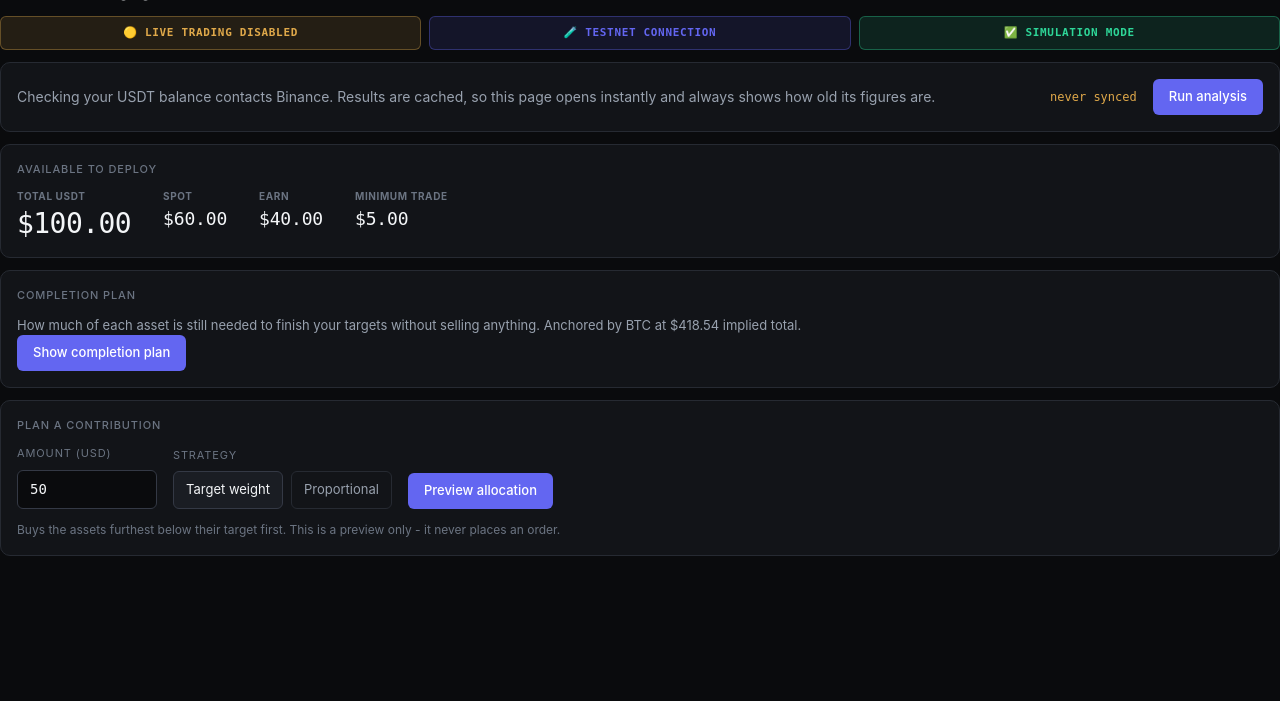
it: Dca per-trade selection › disables execution and hints when nothing is selected
Click the button "Preview allocation" at (480, 491), box x1=408 y1=473 x2=553 y2=508
(page scrolled)
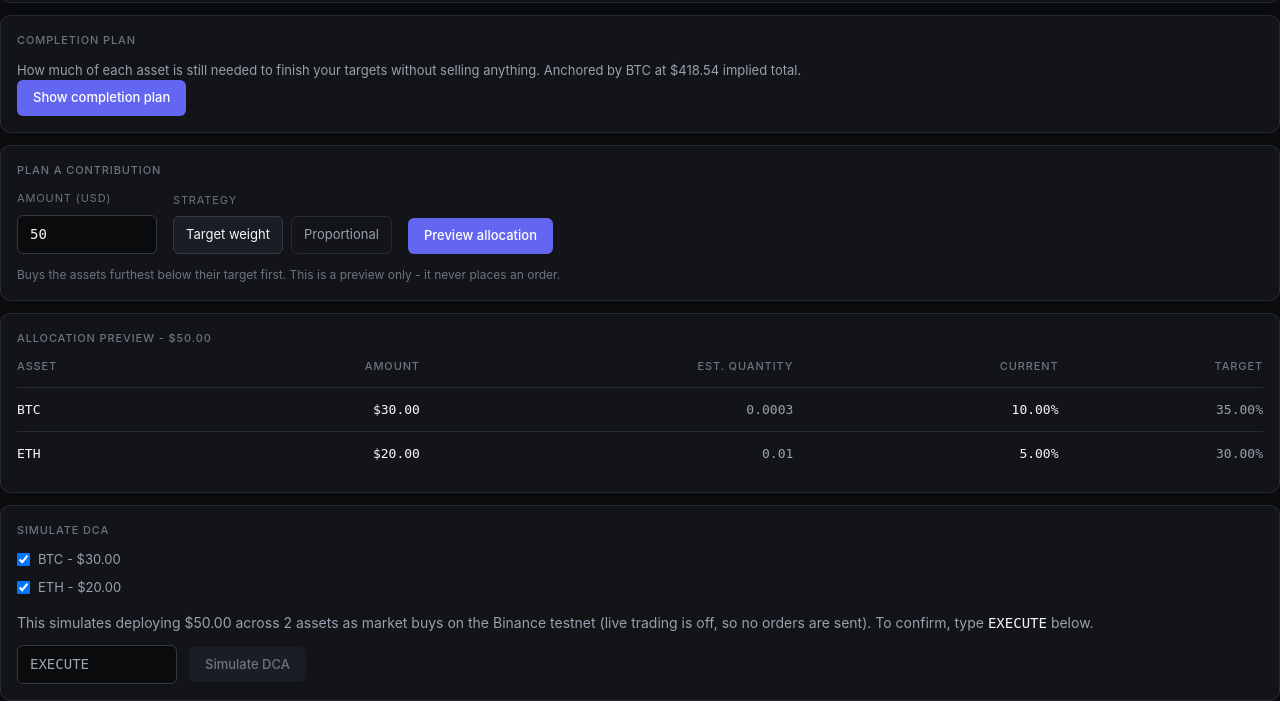
Now the checkbox named "Include BTC" is shown
Click the checkbox named "Include BTC" at (24, 560), box x1=17 y1=553 x2=30 y2=566
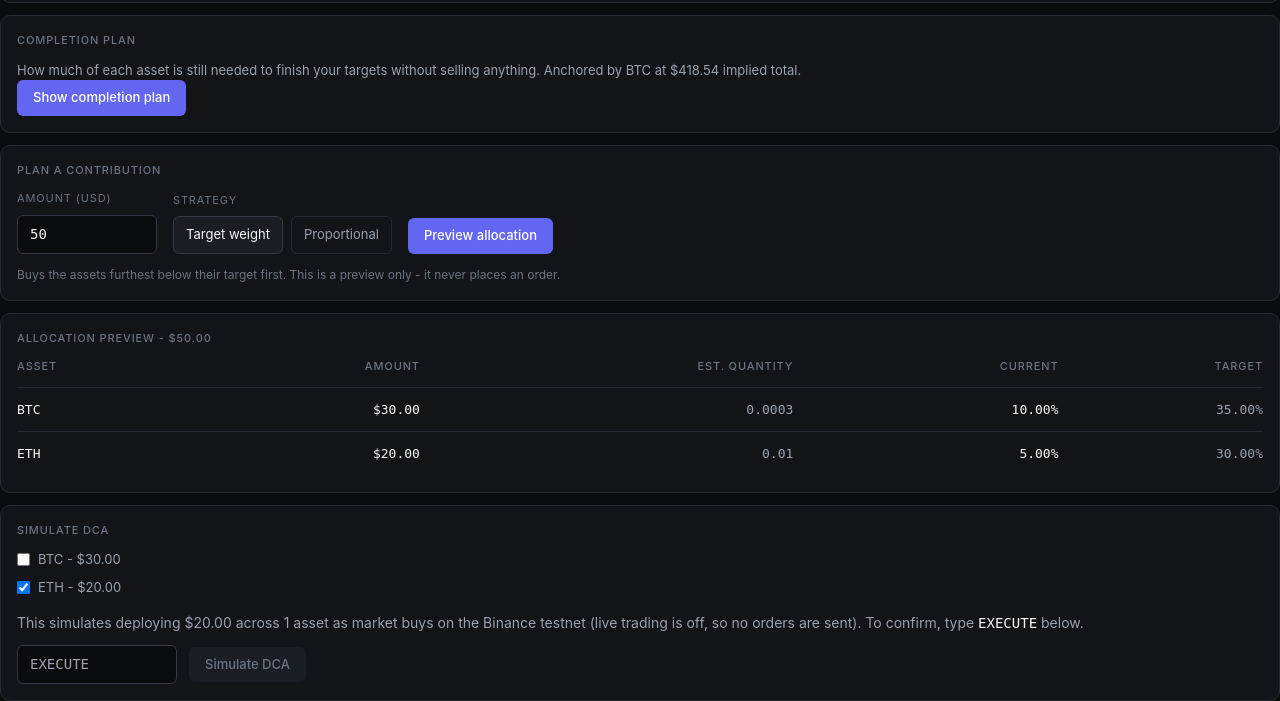
Click the checkbox named "Include ETH" at (24, 587), box x1=17 y1=581 x2=30 y2=594
(page scrolled)
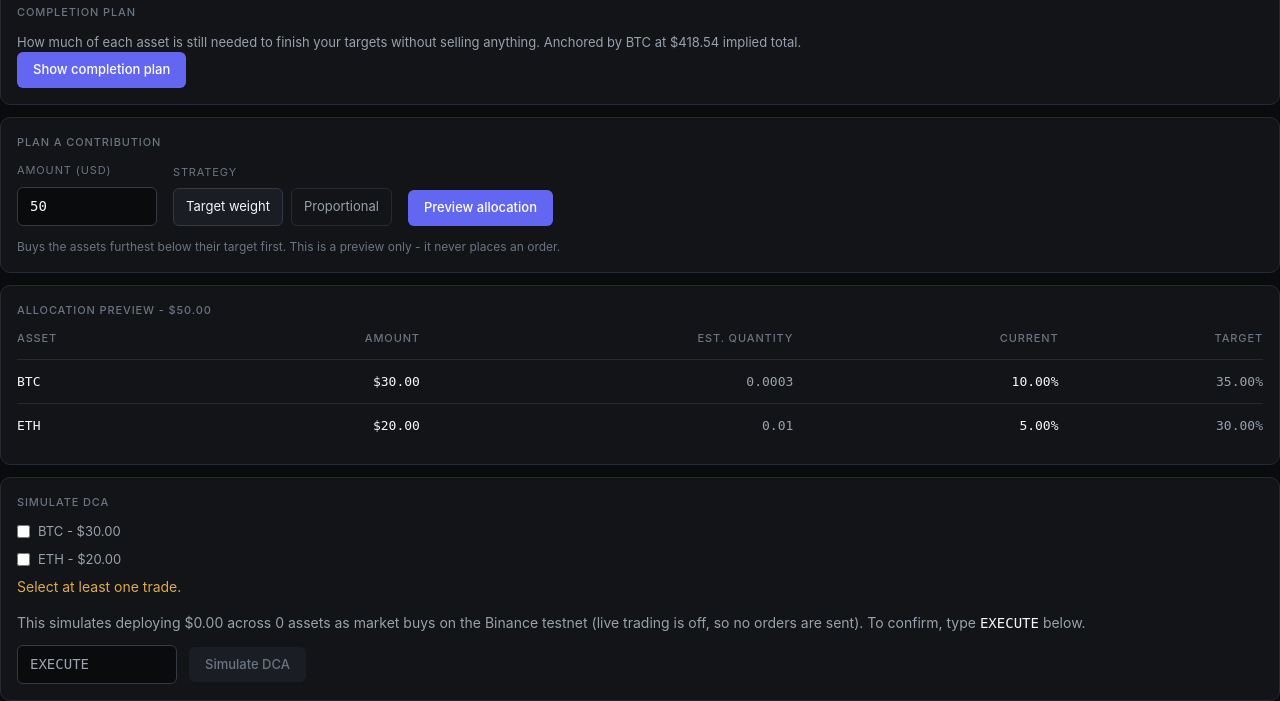
Now the button "Simulate DCA" is disabled, box x1=189 y1=647 x2=306 y2=682
Now the text "Select at least one trade." is shown, box x1=17 y1=578 x2=181 y2=595
